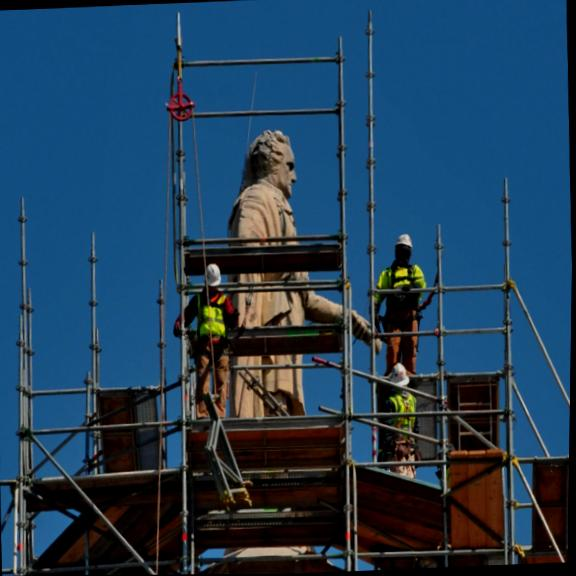safety_vest: (384, 385, 419, 436), (190, 295, 224, 345), (377, 257, 425, 291)
